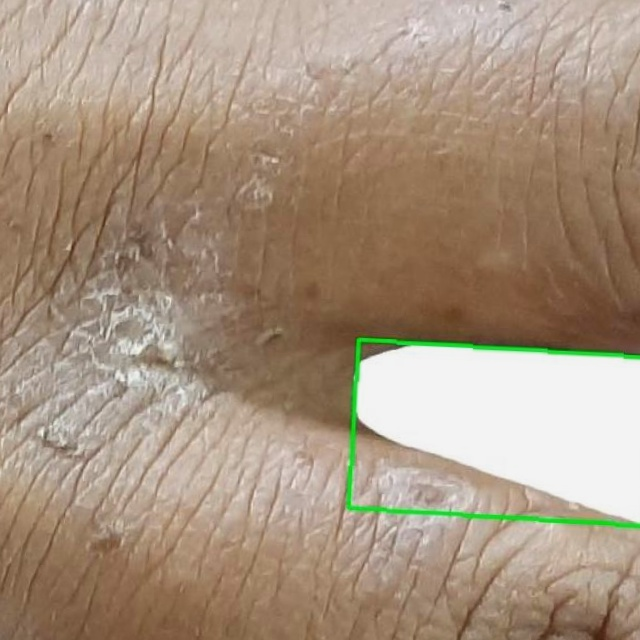Scabies: (348, 340, 639, 525)
